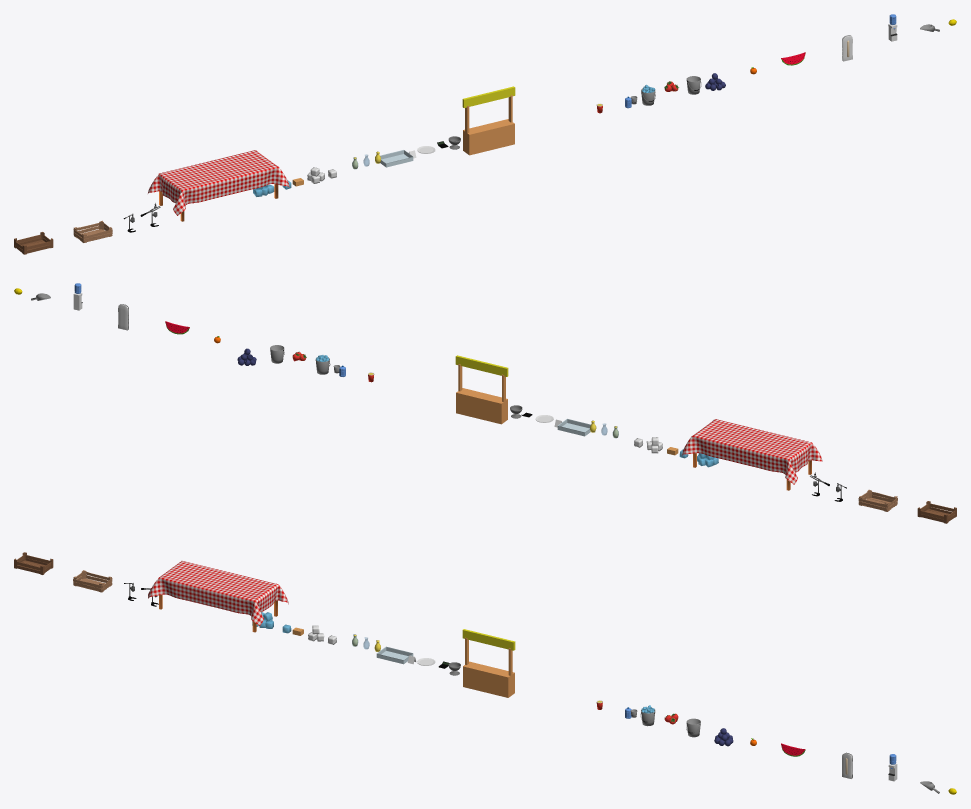
File: models.glb
3 renders of one model, top to bottom at view 1: azimuth 30°, elevation 25°; view 2: azimuth 150°, elevation 25°; view 3: azimuth 330°, elevation 25°, orthographic.
Parts seen in each view (by area): view 1: Plane, Cube.007, Cube.013, Cube.012; view 2: Plane, Cube.007, Cube.012, Cube.013; view 3: Plane, Cube.007, Cube.013, Cube.012.
Part boxes in pixels (<box>): Plane: <box>148,150,289,221</box>; Cube.007: <box>462,86,515,155</box>; Cube.013: <box>73,220,112,242</box>; Cube.012: <box>14,232,53,254</box>; Plane: <box>682,419,822,490</box>; Cube.007: <box>455,355,508,424</box>; Cube.012: <box>917,501,956,523</box>; Cube.013: <box>858,489,897,511</box>; Plane: <box>148,561,288,632</box>; Cube.007: <box>462,629,515,697</box>; Cube.013: <box>73,570,112,592</box>; Cube.012: <box>14,552,53,574</box>.
Size of the model in its own units: 330 by 18.28 by 19.84.
Materials: 54 (2 with a texture image).
